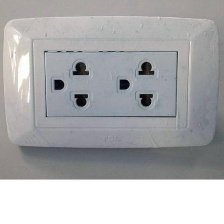three_eye_plug: (0, 14, 221, 153)
